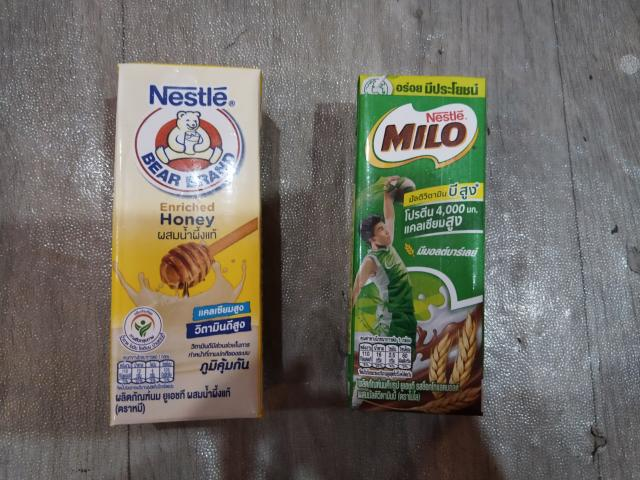drink_box: (98, 60, 268, 424), (351, 68, 492, 412)
